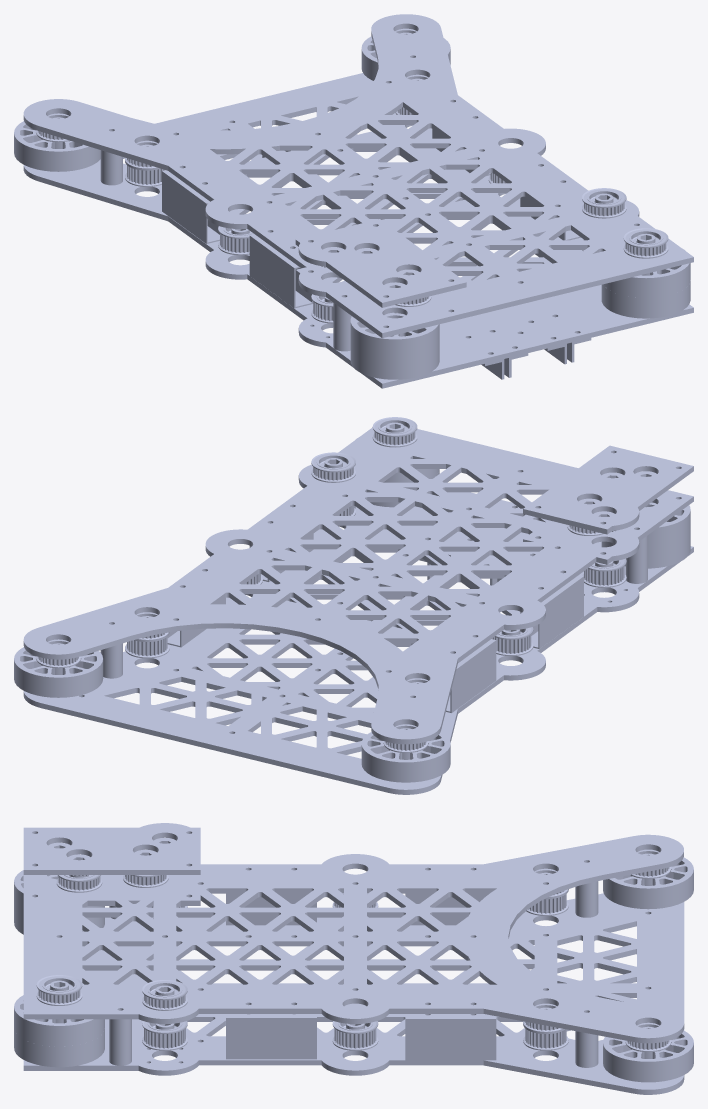
Rendered from ARM-00-00.gltf.
The picture shows the model from 3 angles, top to bottom: view 1: azimuth 30°, elevation 25°; view 2: azimuth 150°, elevation 25°; view 3: azimuth 270°, elevation 25°; orthographic projection. The views are drawn at different scales.
Parts seen in each view (by area): view 1: NAUO2, NAUO1, NAUO3, NAUO33, NAUO35, NAUO6, NAUO4, NAUO32, NAUO34, NAUO31, NAUO16, NAUO19 (+5 smaller); view 2: NAUO2, NAUO1, NAUO3, NAUO33, NAUO30, NAUO6, NAUO4, NAUO16, NAUO19, NAUO35, NAUO24, NAUO34 (+4 smaller); view 3: NAUO2, NAUO1, NAUO3, NAUO7, NAUO5, NAUO30, NAUO33, NAUO32, NAUO31, NAUO16, NAUO19, NAUO21 (+12 smaller).
Part boxes in pixels (x1,y1,x2,y2): NAUO2: (23,14,693,338); NAUO1: (23,73,693,388); NAUO3: (295,219,466,307); NAUO33: (14,121,100,171); NAUO35: (350,312,439,359); NAUO6: (249,234,313,308); NAUO4: (162,170,219,243); NAUO32: (603,248,690,298); NAUO34: (350,342,439,379); NAUO31: (601,280,690,318); NAUO16: (623,228,668,258); NAUO19: (582,188,626,218); NAUO2: (23,427,693,744); NAUO1: (23,492,693,794); NAUO3: (523,445,693,534); NAUO33: (361,732,450,782); NAUO30: (14,647,103,697); NAUO6: (520,575,583,648); NAUO4: (446,639,496,712); NAUO16: (372,417,417,447); NAUO19: (311,452,355,482); NAUO35: (645,502,690,548); NAUO24: (582,558,626,587); NAUO34: (601,531,690,568); NAUO2: (23,834,684,1043); NAUO1: (23,893,684,1094); NAUO3: (23,823,200,874); NAUO7: (405,1014,496,1060); NAUO5: (226,1014,316,1059); NAUO30: (603,1030,693,1082); NAUO33: (603,857,693,909); NAUO32: (14,995,104,1046); NAUO31: (14,1028,104,1067); NAUO16: (36,975,82,1005); NAUO19: (142,980,187,1010); NAUO21: (332,1021,378,1050).
Bounding box in the file's own units: 0.5588 × 0.1333 × 0.7584.
